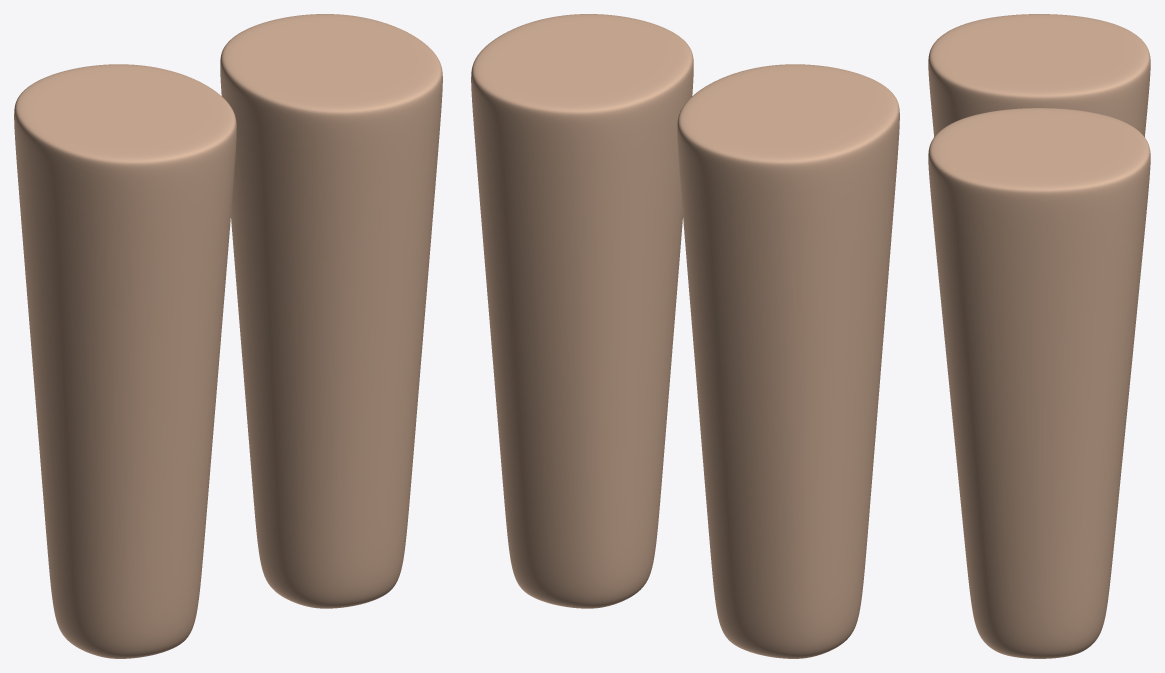
The model's file is PIERNAS_M.glb.
3 renders of one model, left to right at view 1: azimuth 30°, elevation 25°; view 2: azimuth 150°, elevation 25°; view 3: azimuth 270°, elevation 25°, orthographic. The views are drawn at different scales.
Visible parts, largest first — view 1: Cube.065; view 2: Cube.065; view 3: Cube.065.
Part boxes in pixels (x1,y1,x2,y2): Cube.065: (14, 14, 442, 658); Cube.065: (471, 14, 899, 658); Cube.065: (928, 14, 1150, 658).
Size of the model in its own units: 1.93 by 2.5 by 1.02.
